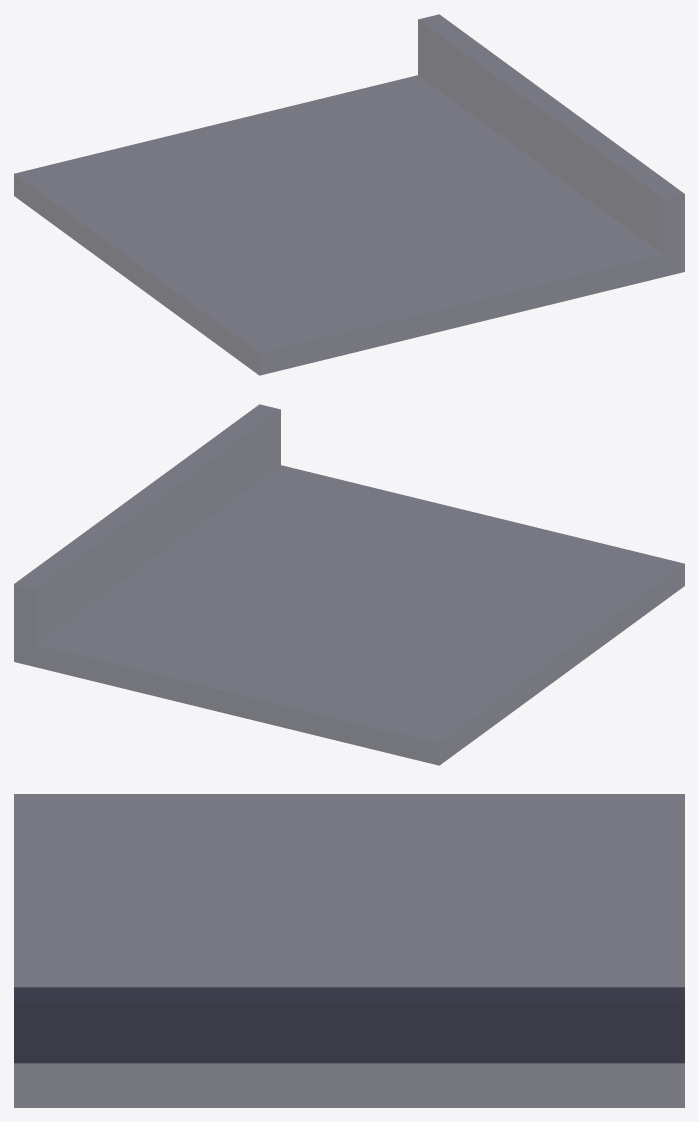
File: GlassRoof_1Edge.glb
3 views of the same model, one above another, from view 1: azimuth 30°, elevation 25°; view 2: azimuth 150°, elevation 25°; view 3: azimuth 270°, elevation 25° (orthographic). The views are drawn at different scales.
Visible parts, largest first — view 1: roof_flat_1Edge_glass; view 2: roof_flat_1Edge_glass; view 3: roof_flat_1Edge_glass.
Part boxes in pixels (x1,y1,x2,y2): roof_flat_1Edge_glass: (14, 14, 684, 375); roof_flat_1Edge_glass: (14, 404, 684, 765); roof_flat_1Edge_glass: (14, 794, 684, 1107).
Size of what is drawn, in the model's own units: 4 by 0.7 by 4.
1 material, 1 textured.
